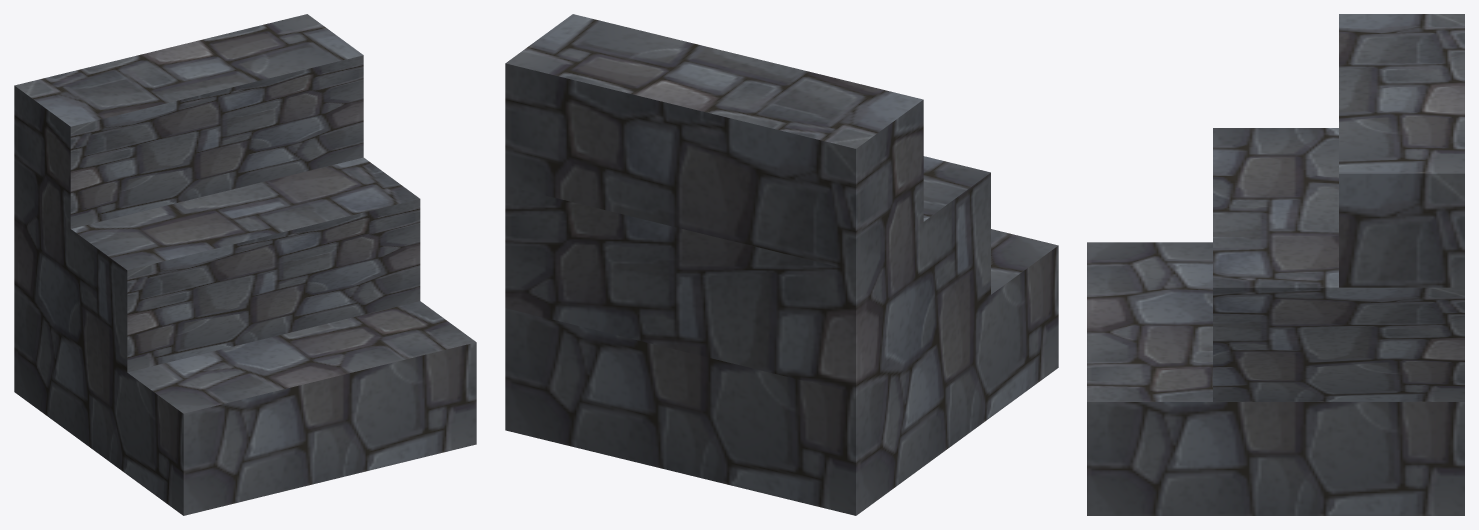
The model's file is stair_normal.fbx.
The picture shows the model from 3 angles, left to right: view 1: azimuth 30°, elevation 25°; view 2: azimuth 150°, elevation 25°; view 3: azimuth 270°, elevation 25°; orthographic projection. The views are drawn at different scales.
Visible parts, largest first — view 1: Cube.010; view 2: Cube.010; view 3: Cube.010.
Boxes of the visible parts, <box> form: Cube.010: <box>14,14,476,515</box>; Cube.010: <box>505,14,1058,515</box>; Cube.010: <box>1087,14,1464,515</box>.
Size of the model in its own units: 2 by 2 by 2.
